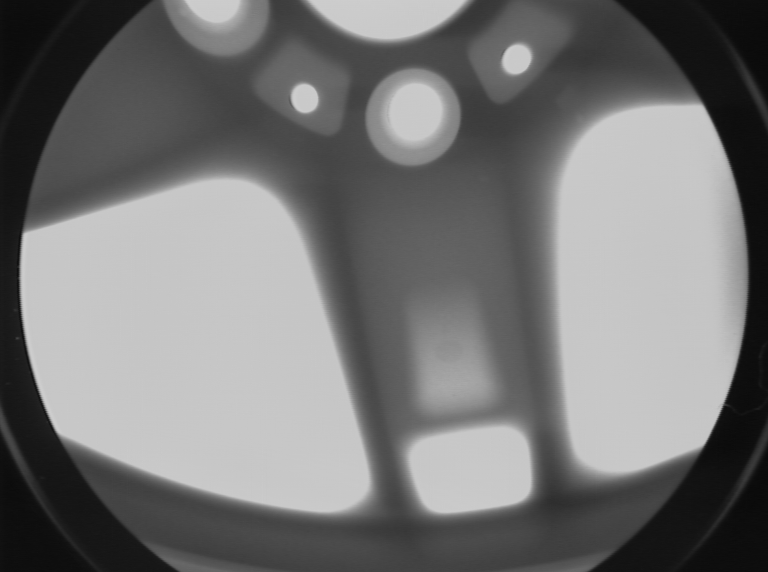defect: (175, 4, 194, 23)
